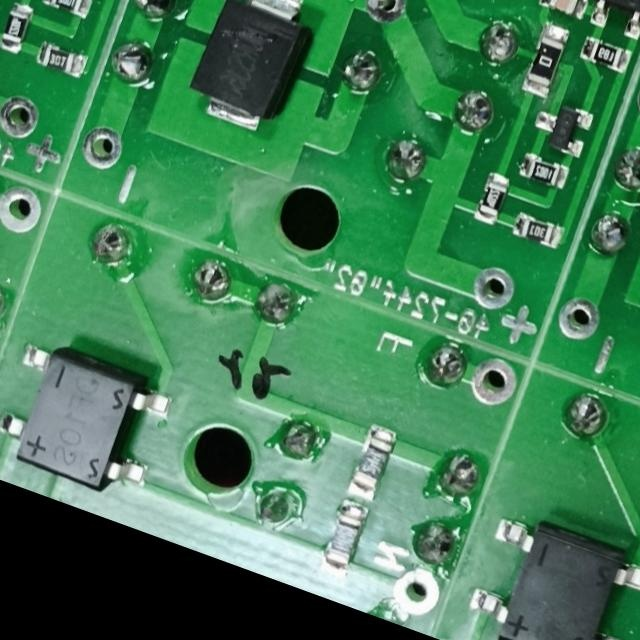chip-capacitor: (533, 0, 589, 21)
chip-resistor: (312, 495, 372, 581), (342, 421, 401, 506), (515, 18, 573, 102), (572, 33, 633, 78), (468, 168, 512, 228), (506, 210, 565, 253), (512, 150, 571, 193), (30, 38, 89, 81), (0, 0, 37, 57), (35, 0, 94, 22)
diode: (178, 0, 322, 141)
ic: (0, 329, 181, 508), (454, 503, 640, 640)
transistor: (524, 93, 596, 160)
